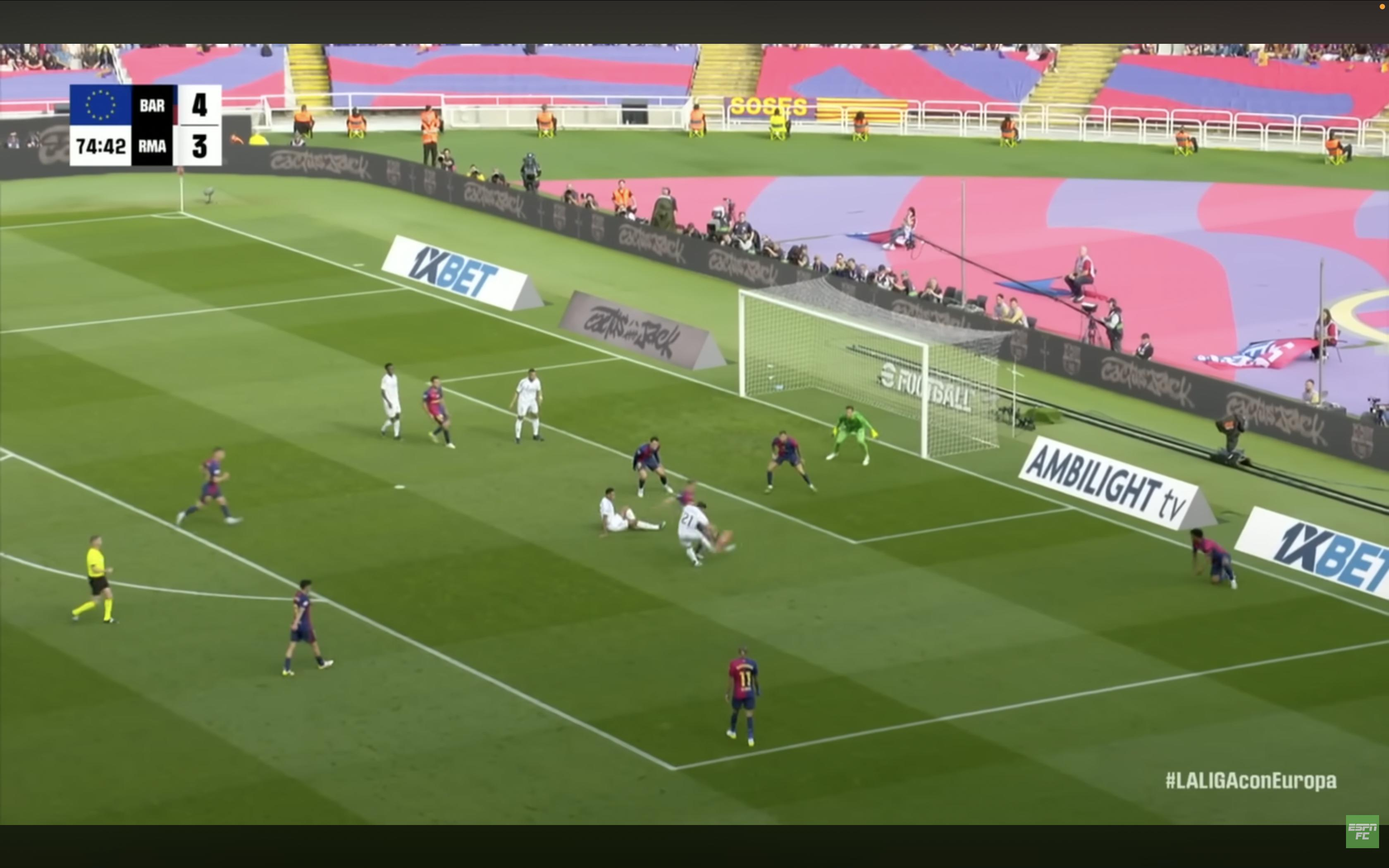ball: (717, 530, 733, 545)
goalkeeper: (827, 406, 878, 465)
player: (176, 448, 242, 525), (283, 579, 333, 677), (726, 648, 759, 746), (600, 488, 664, 537), (766, 431, 816, 493), (1190, 529, 1237, 589), (677, 501, 719, 567), (632, 436, 674, 497), (509, 369, 543, 444), (422, 377, 455, 448), (380, 363, 401, 439), (664, 479, 697, 508)
referee: (72, 536, 116, 624)
